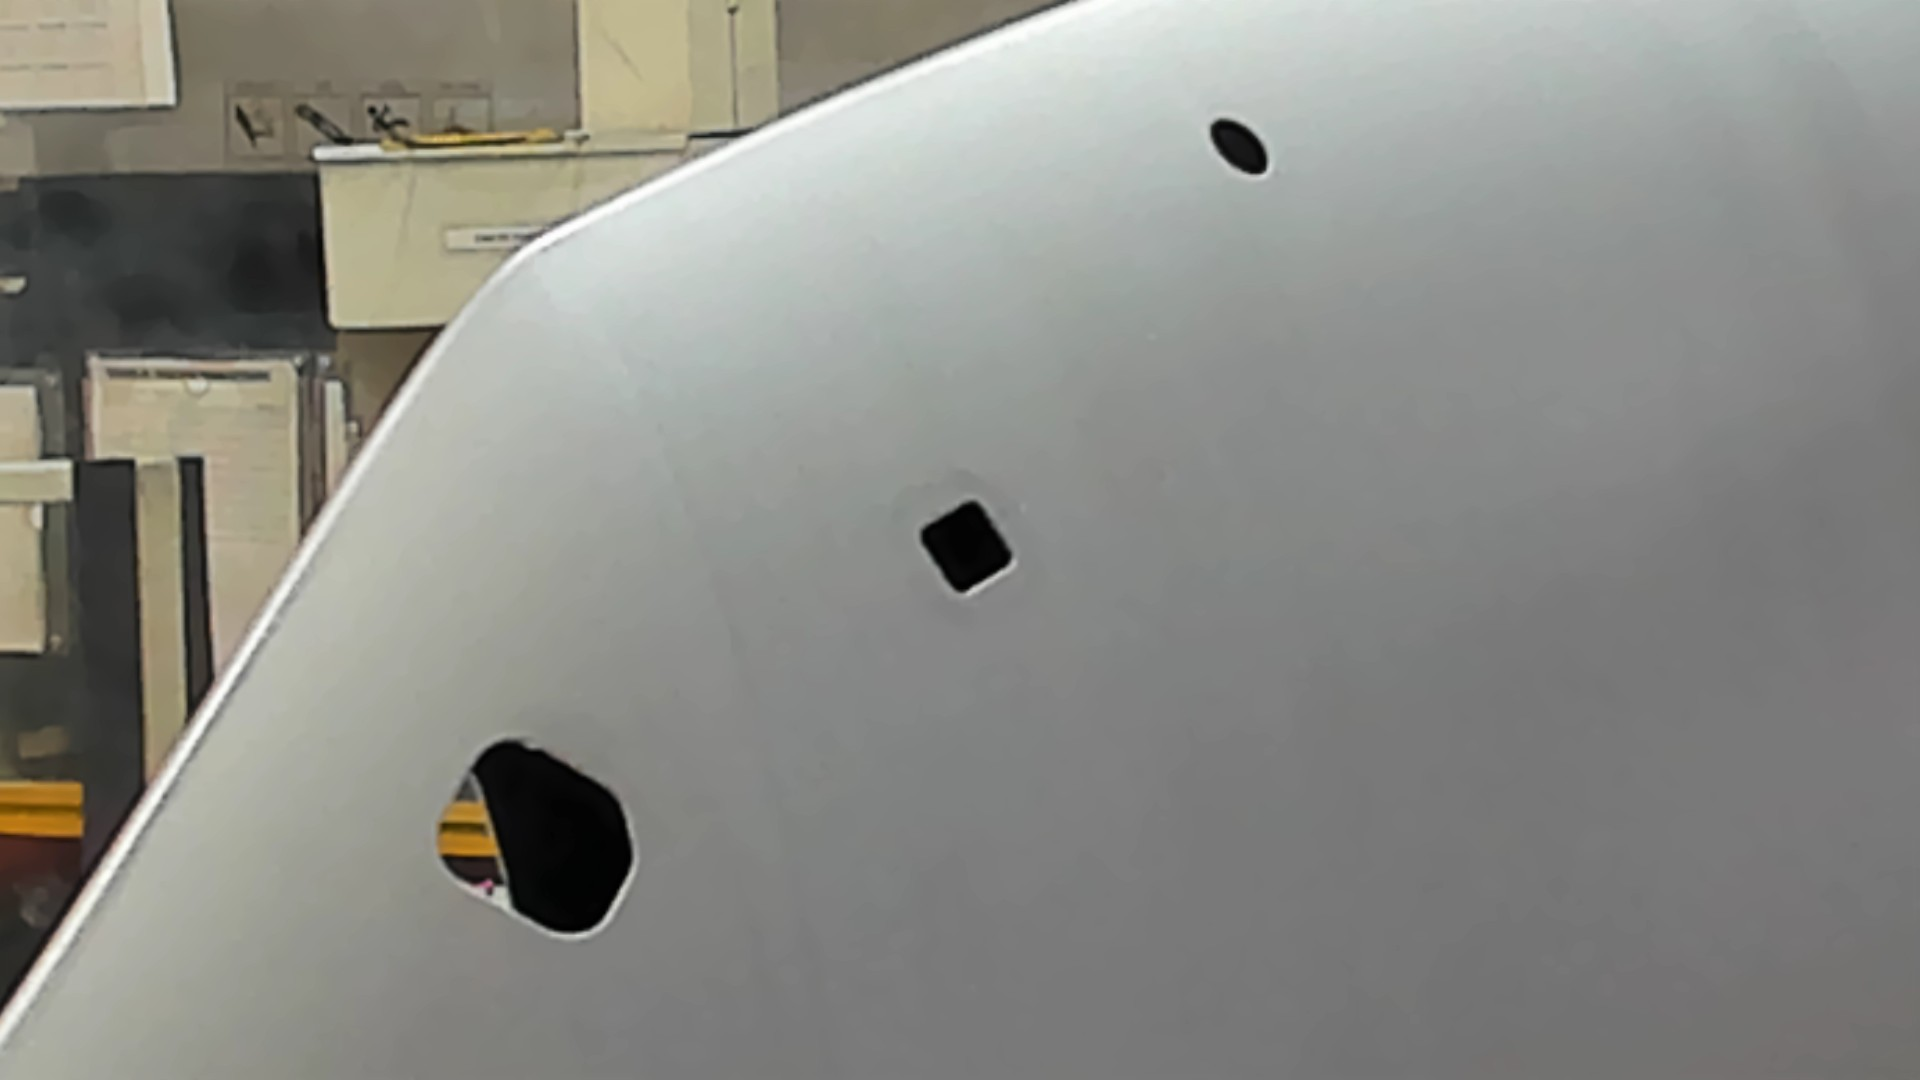Agujero: (918, 498, 1015, 595), (1209, 116, 1269, 175)
Agujerote: (433, 737, 637, 939)
